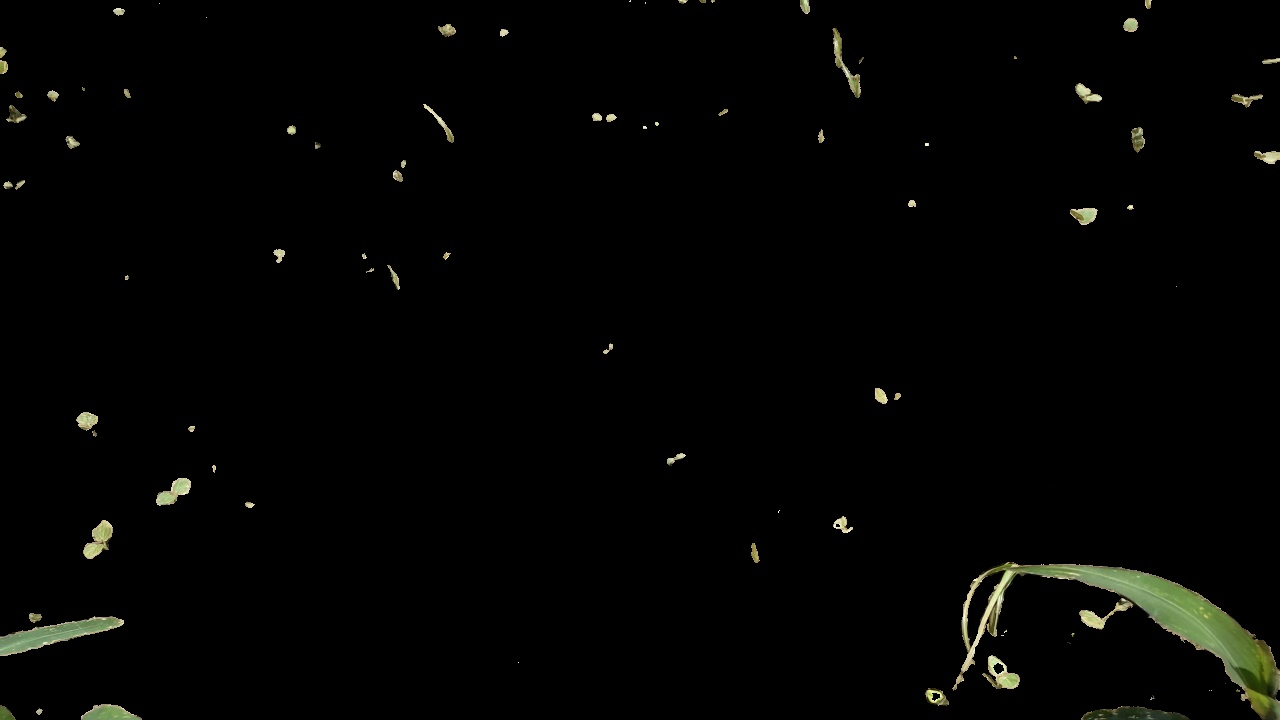crop: (951, 520, 1280, 720)
weed: (985, 652, 1023, 699), (79, 521, 115, 562), (148, 478, 192, 507), (1067, 84, 1104, 115), (73, 404, 102, 437)
